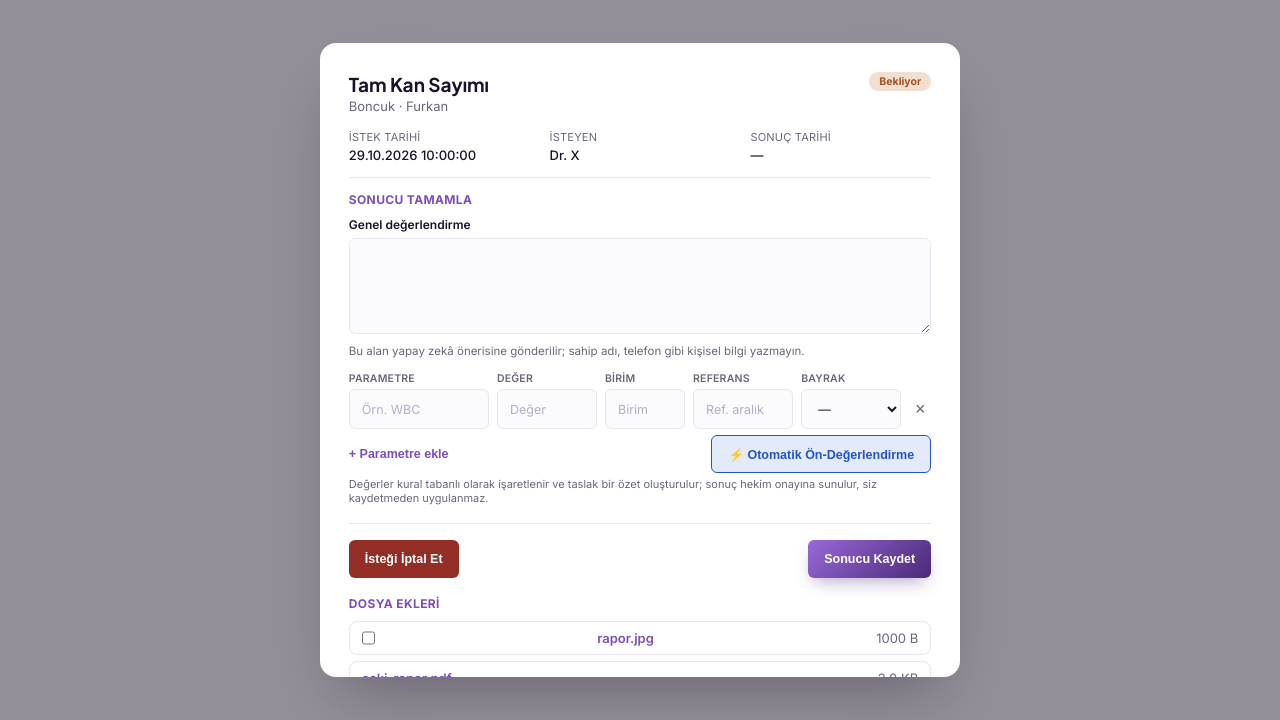
Test: LabResultDetailModal — fotograftan okuma (2026-10-29) › shows a warning banner when the model could not be reached
What coordinates should you click on to do the following:
click the checkbox named "Fotoğraftan Oku için seç"
I would click on:
 (368, 638)
Its box is x1=362 y1=630 x2=375 y2=646.
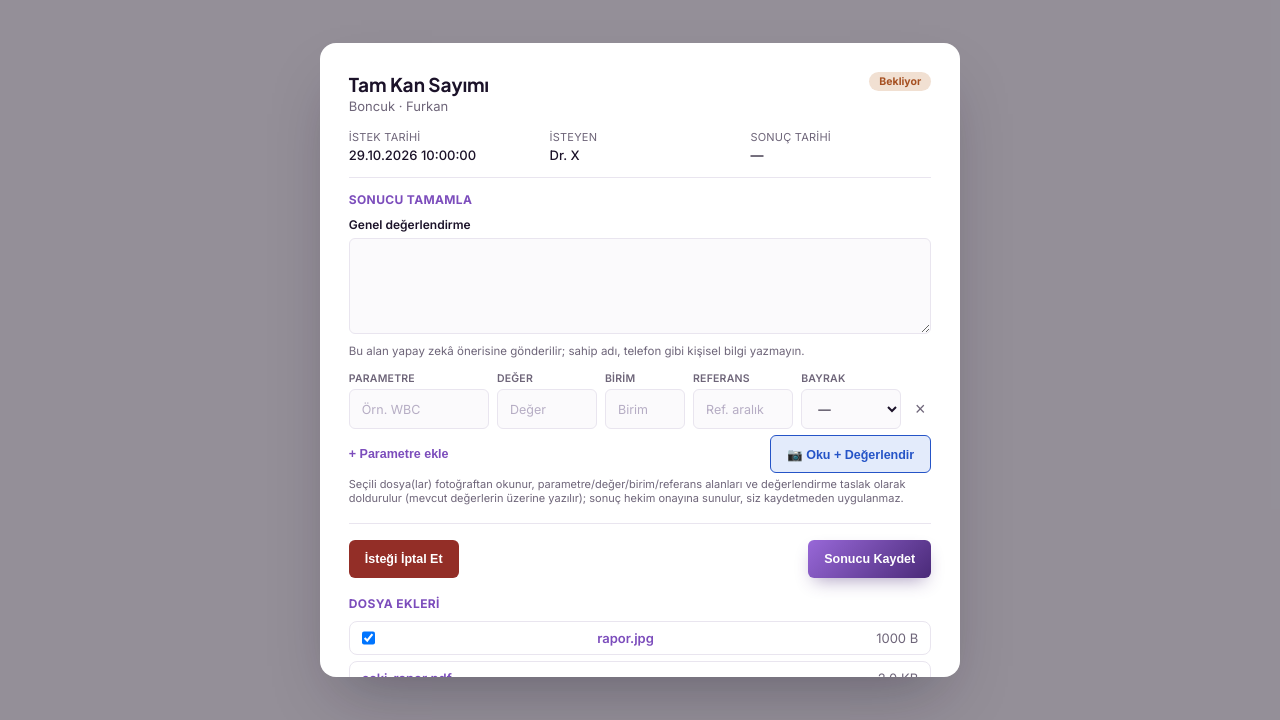
What coordinates should you click on to do the following:
click the button "📷 Oku + Değerlendir"
I would click on:
 (851, 454)
Its box is x1=770 y1=435 x2=931 y2=473.
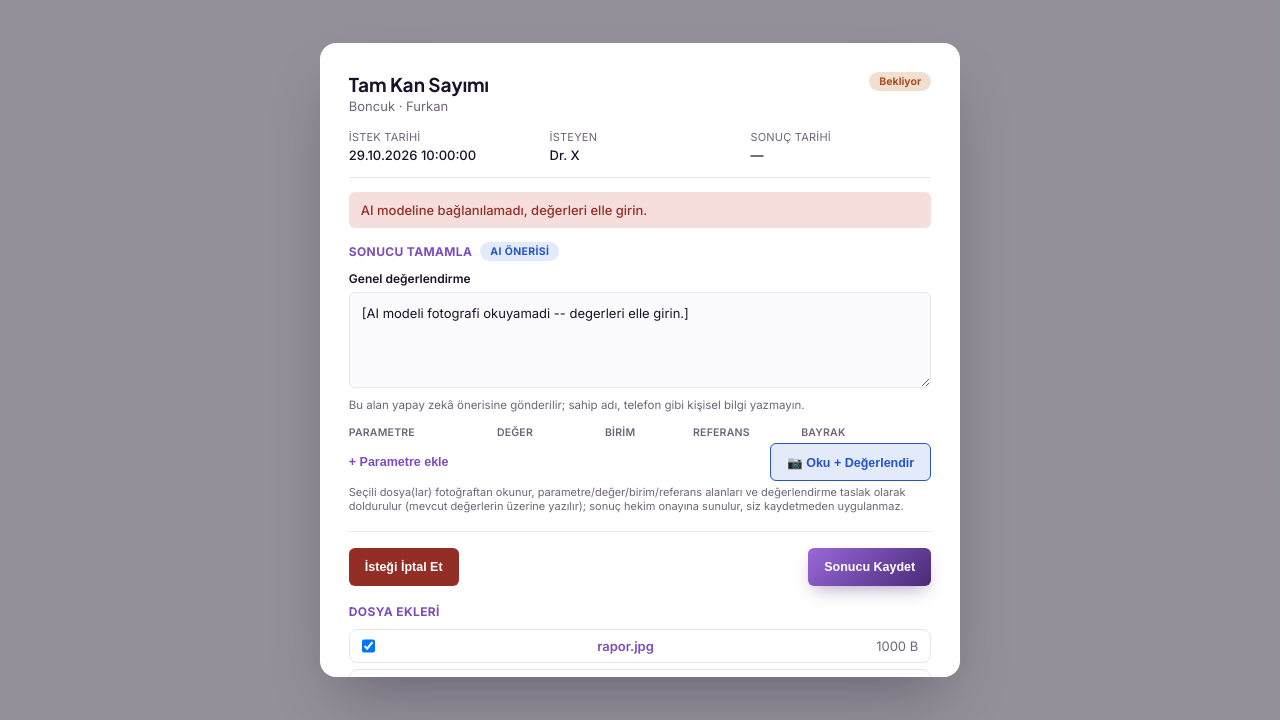
Result: the text "AI modeline bağlanılamadı" is shown at x1=361 y1=202 x2=647 y2=218
